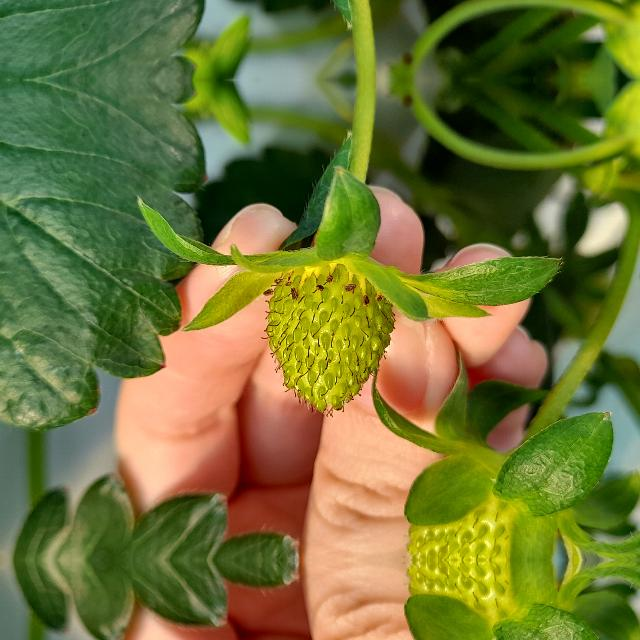Health_25: (260, 264, 396, 418), (404, 462, 558, 560), (403, 560, 558, 640)
